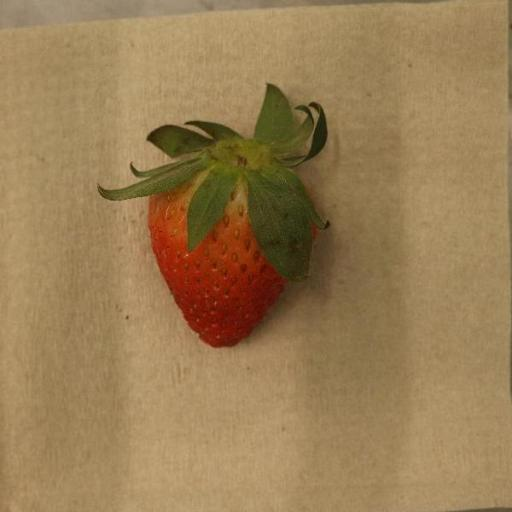Strawberry: (98, 83, 330, 350)
